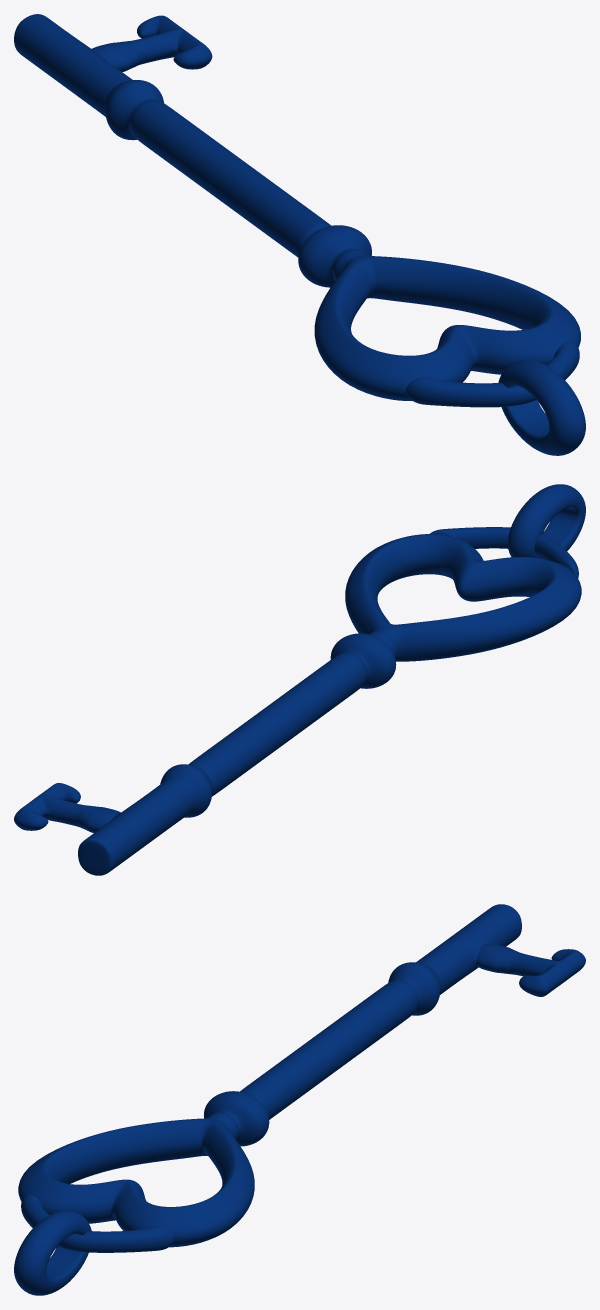
Rendered from Key.fbx.
3 views of the same model, one above another, from view 1: azimuth 30°, elevation 25°; view 2: azimuth 150°, elevation 25°; view 3: azimuth 330°, elevation 25° (orthographic). The views are drawn at different scales.
Visible parts, largest first — view 1: _Heart_Key_new1:Heart_Key; view 2: _Heart_Key_new1:Heart_Key; view 3: _Heart_Key_new1:Heart_Key.
Boxes of the visible parts, box(x1,y1,x2,y2) form: _Heart_Key_new1:Heart_Key: box(14, 14, 585, 455); _Heart_Key_new1:Heart_Key: box(14, 484, 585, 875); _Heart_Key_new1:Heart_Key: box(14, 904, 585, 1295).
Bounding box in the file's own units: 2.57 × 0.8667 × 10.59.
